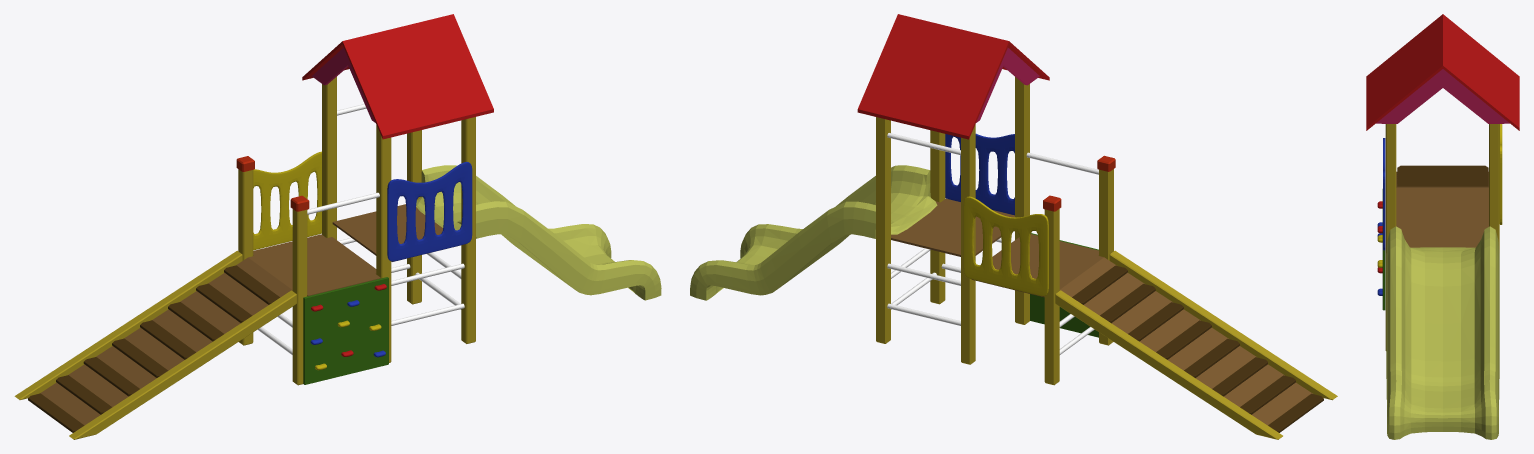
File: parque.obj
3 renders of one model, left to right at view 1: azimuth 30°, elevation 25°; view 2: azimuth 150°, elevation 25°; view 3: azimuth 270°, elevation 25°, orthographic. The views are drawn at different scales.
Parts seen in each view (by area): view 1: parkfloor_Cube.001, roof_Cube.033, slide_Cube.032, greenwall_Cube.018, plasticdoor_Cube.019, column_Cube.014, column2_Cube.016, side1_Cube.004, plasticdoor2_Cube.020, side2_Cube.005, lit_column_Cube.003, lit_column2_Cube.002 (+9 smaller); view 2: parkfloor_Cube.001, roof_Cube.033, slide_Cube.032, plasticdoor2_Cube.020, column_Cube.014, column2_Cube.016, side2_Cube.005, side1_Cube.004, plasticdoor_Cube.019, lit_column2_Cube.002, lit_column_Cube.003, greenwall_Cube.018 (+9 smaller); view 3: slide_Cube.032, roof_Cube.033, parkfloor_Cube.001, column2_Cube.016, connectroof_Cube.017, step8_Cube, plasticdoor2_Cube.020, plasticdoor_Cube.019, greenwall_Cube.018, step3_Cube.035, step1_Cube.006, step2_Cube.036 (+4 smaller).
Boxes of the visible parts, x1,y1,x2,y2 form: parkfloor_Cube.001: (40,204,453,425); roof_Cube.033: (302,14,493,139); slide_Cube.032: (416,165,661,300); greenwall_Cube.018: (303,277,388,384); plasticdoor_Cube.019: (387,161,472,261); column_Cube.014: (322,76,391,362); column2_Cube.016: (407,117,475,343); side1_Cube.004: (69,290,296,439); plasticdoor2_Cube.020: (253,151,321,250); side2_Cube.005: (14,250,242,399); lit_column_Cube.003: (290,195,309,385); lit_column2_Cube.002: (236,156,254,345); parkfloor_Cube.001: (891,198,1312,425); roof_Cube.033: (857,14,1049,139); slide_Cube.032: (690,165,937,300); plasticdoor2_Cube.020: (963,196,1048,296); column_Cube.014: (961,77,1029,364); column2_Cube.016: (876,117,945,343); side2_Cube.005: (1055,290,1282,439); side1_Cube.004: (1109,250,1337,400); plasticdoor_Cube.019: (945,133,1014,215); lit_column2_Cube.002: (1043,195,1061,385); lit_column_Cube.003: (1097,155,1115,345); greenwall_Cube.018: (1030,233,1098,337); slide_Cube.032: (1386,226,1499,439); roof_Cube.033: (1366,14,1519,130); parkfloor_Cube.001: (1396,171,1488,247); column2_Cube.016: (1385,124,1499,350); connectroof_Cube.017: (1376,69,1509,123); step8_Cube: (1397,180,1488,186); plasticdoor2_Cube.020: (1499,124,1502,224); plasticdoor_Cube.019: (1383,138,1385,250); greenwall_Cube.018: (1382,189,1385,310); step3_Cube.035: (1397,169,1488,173); step1_Cube.006: (1397,165,1488,169); step2_Cube.036: (1397,167,1488,171).
Bounding box in the file's own units: 7.03 × 3.45 × 1.66.
